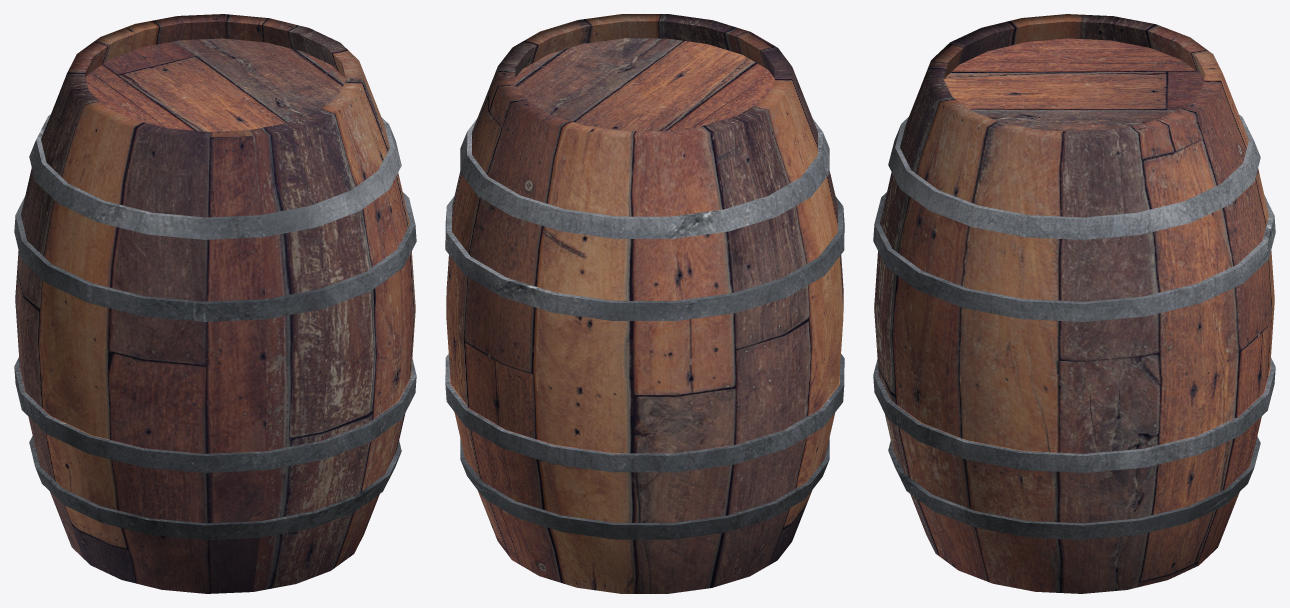
The model's file is Barrel.fbx.
3 views of the same model, side by side, from view 1: azimuth 30°, elevation 25°; view 2: azimuth 150°, elevation 25°; view 3: azimuth 270°, elevation 25° (orthographic).
Parts seen in each view (by area): view 1: Cask; view 2: Cask; view 3: Cask.
Boxes of the visible parts, x1=… form: Cask: x1=14, y1=14, x2=416, y2=593; Cask: x1=445, y1=14, x2=844, y2=593; Cask: x1=873, y1=14, x2=1275, y2=593.
Size of the model in its own units: 7.35 by 9.15 by 7.35.
